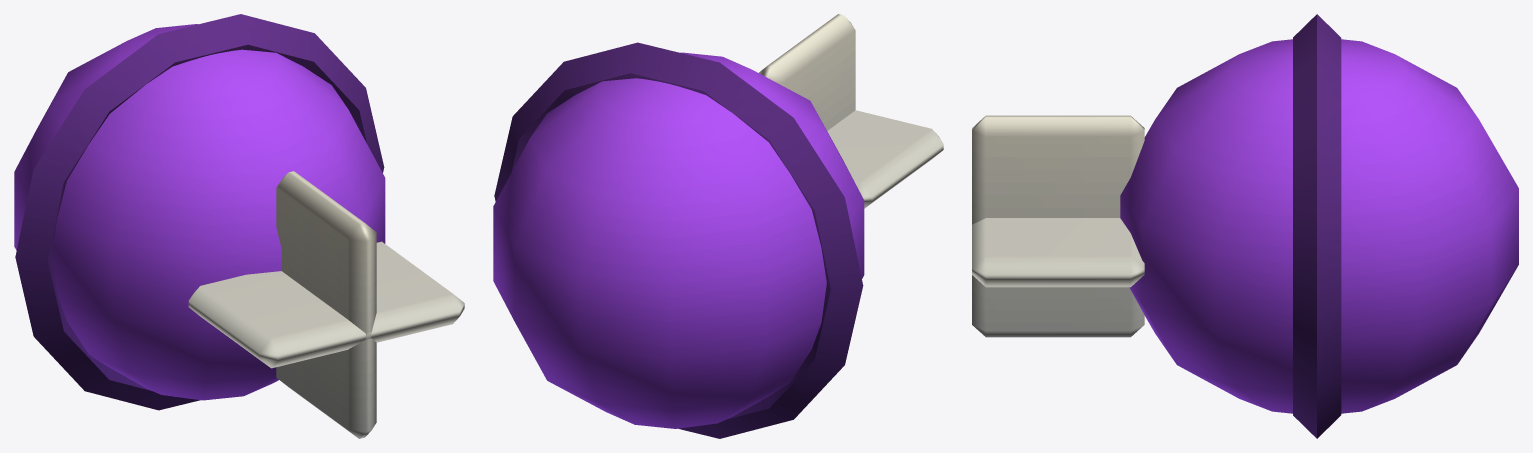
Rendered from bomblet.glb.
3 views of the same model, side by side, from view 1: azimuth 30°, elevation 25°; view 2: azimuth 150°, elevation 25°; view 3: azimuth 270°, elevation 25° (orthographic). The views are drawn at different scales.
Parts seen in each view (by area): view 1: bomblet Scatter violet, bomblet Warm white, bomblet Scatter plum; view 2: bomblet Scatter violet, bomblet Scatter plum, bomblet Warm white; view 3: bomblet Scatter violet, bomblet Warm white, bomblet Scatter plum.
Part boxes in pixels (x1=…): bomblet Scatter violet: x1=14, y1=24, x2=385, y2=400; bomblet Warm white: x1=188, y1=171, x2=464, y2=438; bomblet Scatter plum: x1=15, y1=14, x2=384, y2=410; bomblet Scatter violet: x1=493, y1=52, x2=864, y2=428; bomblet Scatter plum: x1=494, y1=42, x2=863, y2=438; bomblet Warm white: x1=759, y1=14, x2=943, y2=208; bomblet Scatter violet: x1=1120, y1=39, x2=1518, y2=413; bomblet Warm white: x1=972, y1=115, x2=1144, y2=337; bomblet Scatter plum: x1=1293, y1=14, x2=1341, y2=438.
Size of the model in its own units: 0.252 by 0.2457 by 0.317.
3 materials, 3 textured.
